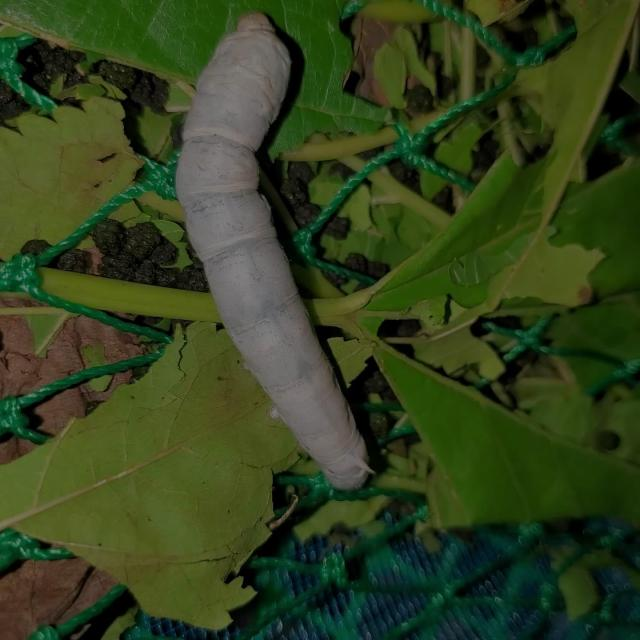Healthy: (170, 5, 381, 499)
